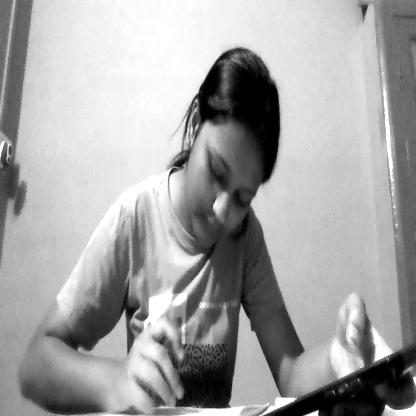Distracted: (181, 51, 286, 259)
